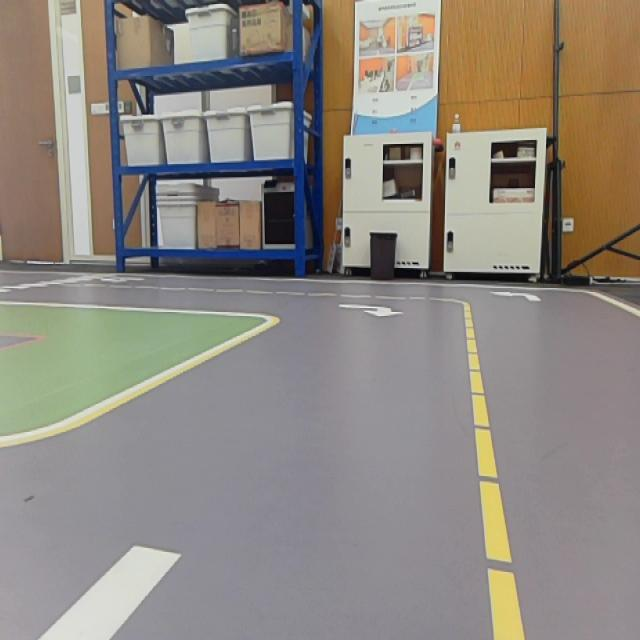left_lane: (463, 304, 526, 638)
right_lane: (34, 322, 276, 440), (589, 291, 640, 317)
